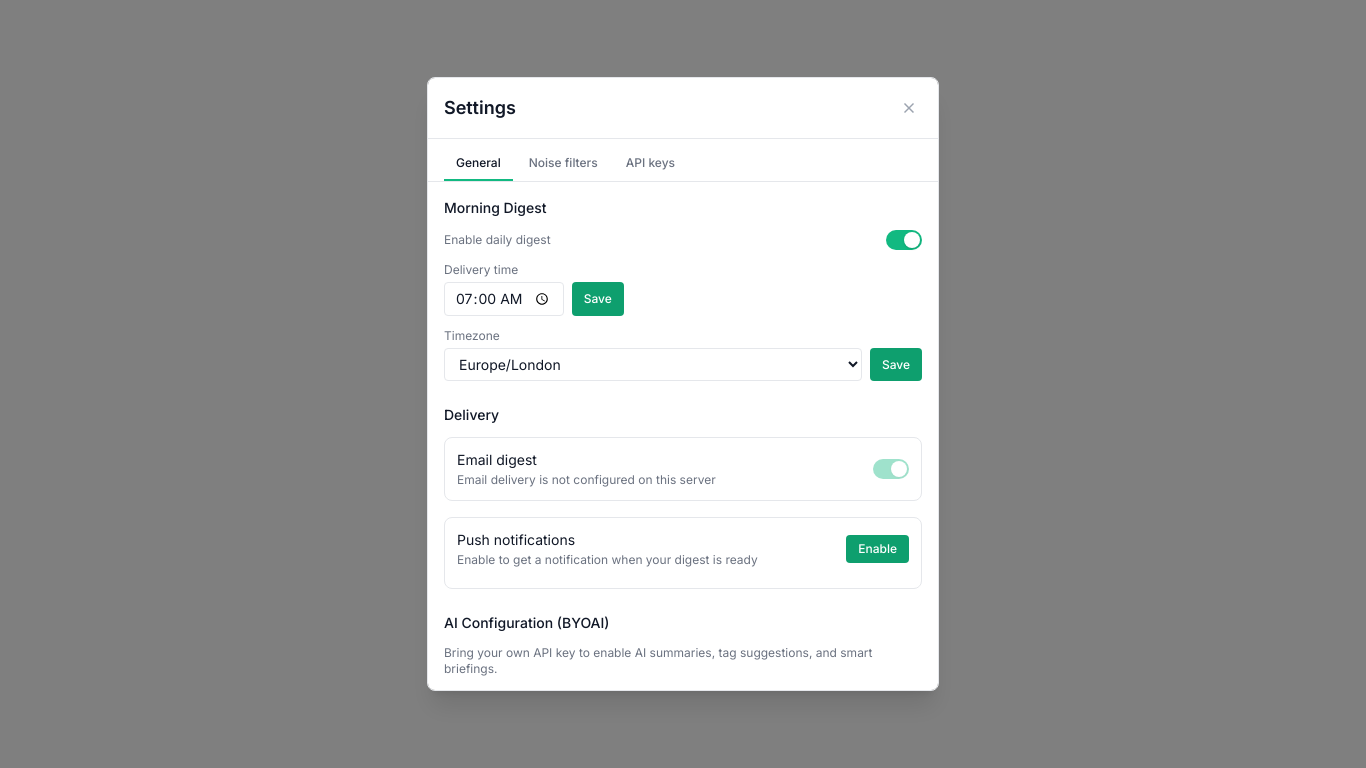
Test: SettingsPage › enables push successfully and shows the server email-disabled copy
Expected: the text "Email delivery is not configured on this server" is shown, [457,472,716,488]
Step 1. Click the button "Enable" → (878, 550), box [846,536,909,564]
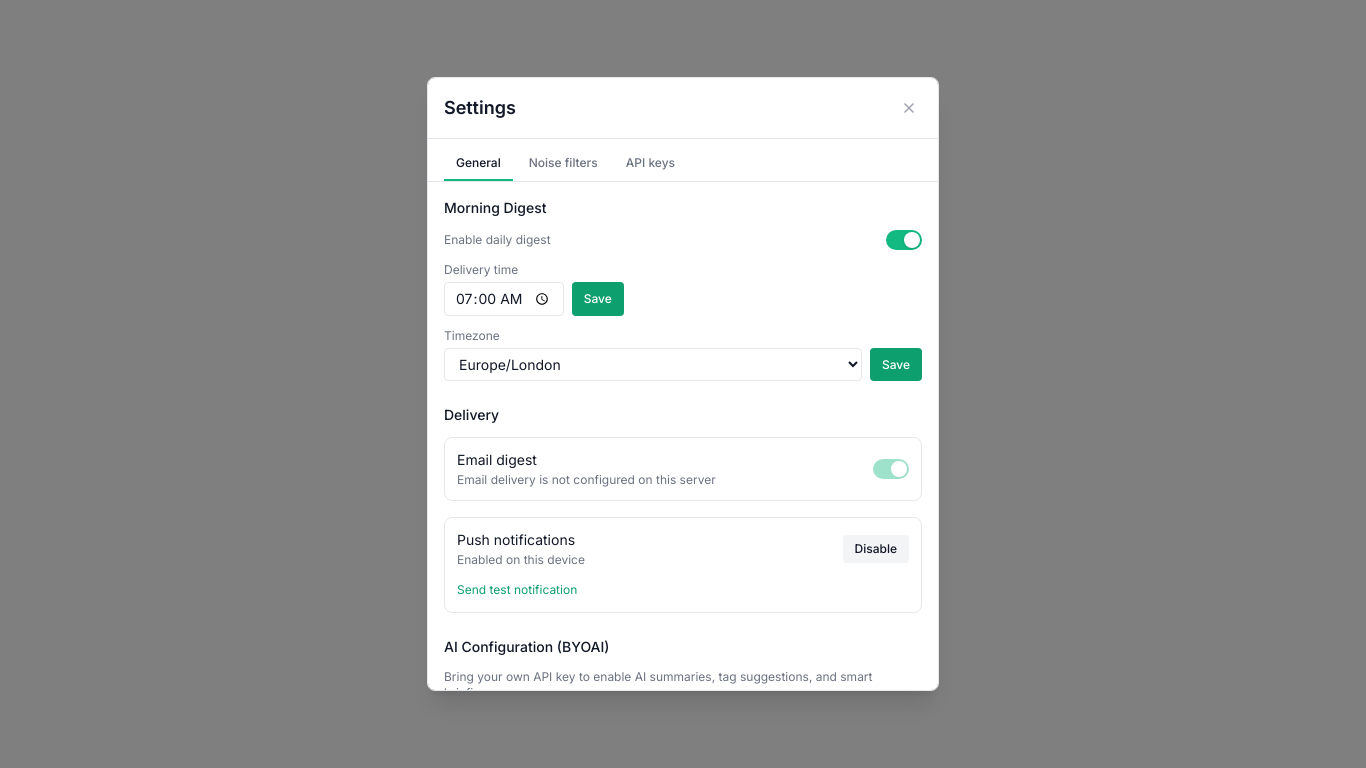
Expected: the text "Enabled on this device" is shown, [457,552,585,568]
